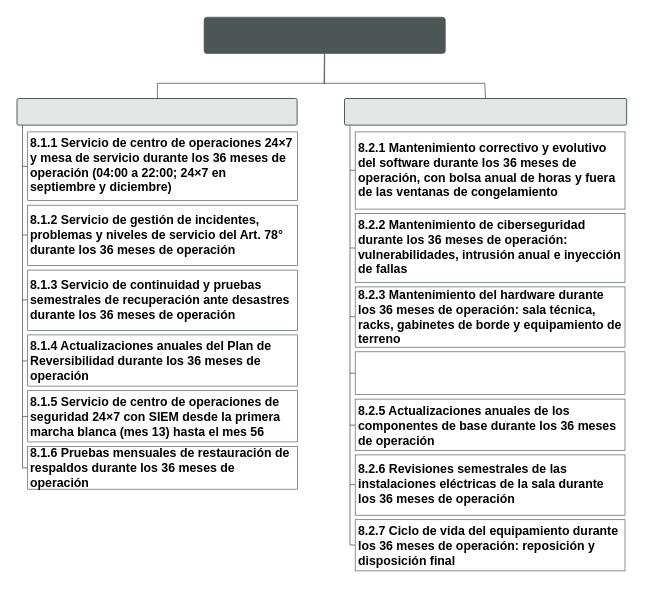
Image size: 645x589. Some labels were removed from this diagram. Each missing label, with the centre of its shape:
"8. Operación y soporte (36 meses)" belongs at (x=324, y=34).
"8.1 Servicios de operación" belongs at (x=156, y=111).
"8.2 Mantenimiento" belongs at (x=485, y=111).
"8.2.4 Registro y reducción de la deuda técnica durante los 36 meses de operación" belongs at (x=489, y=372).
